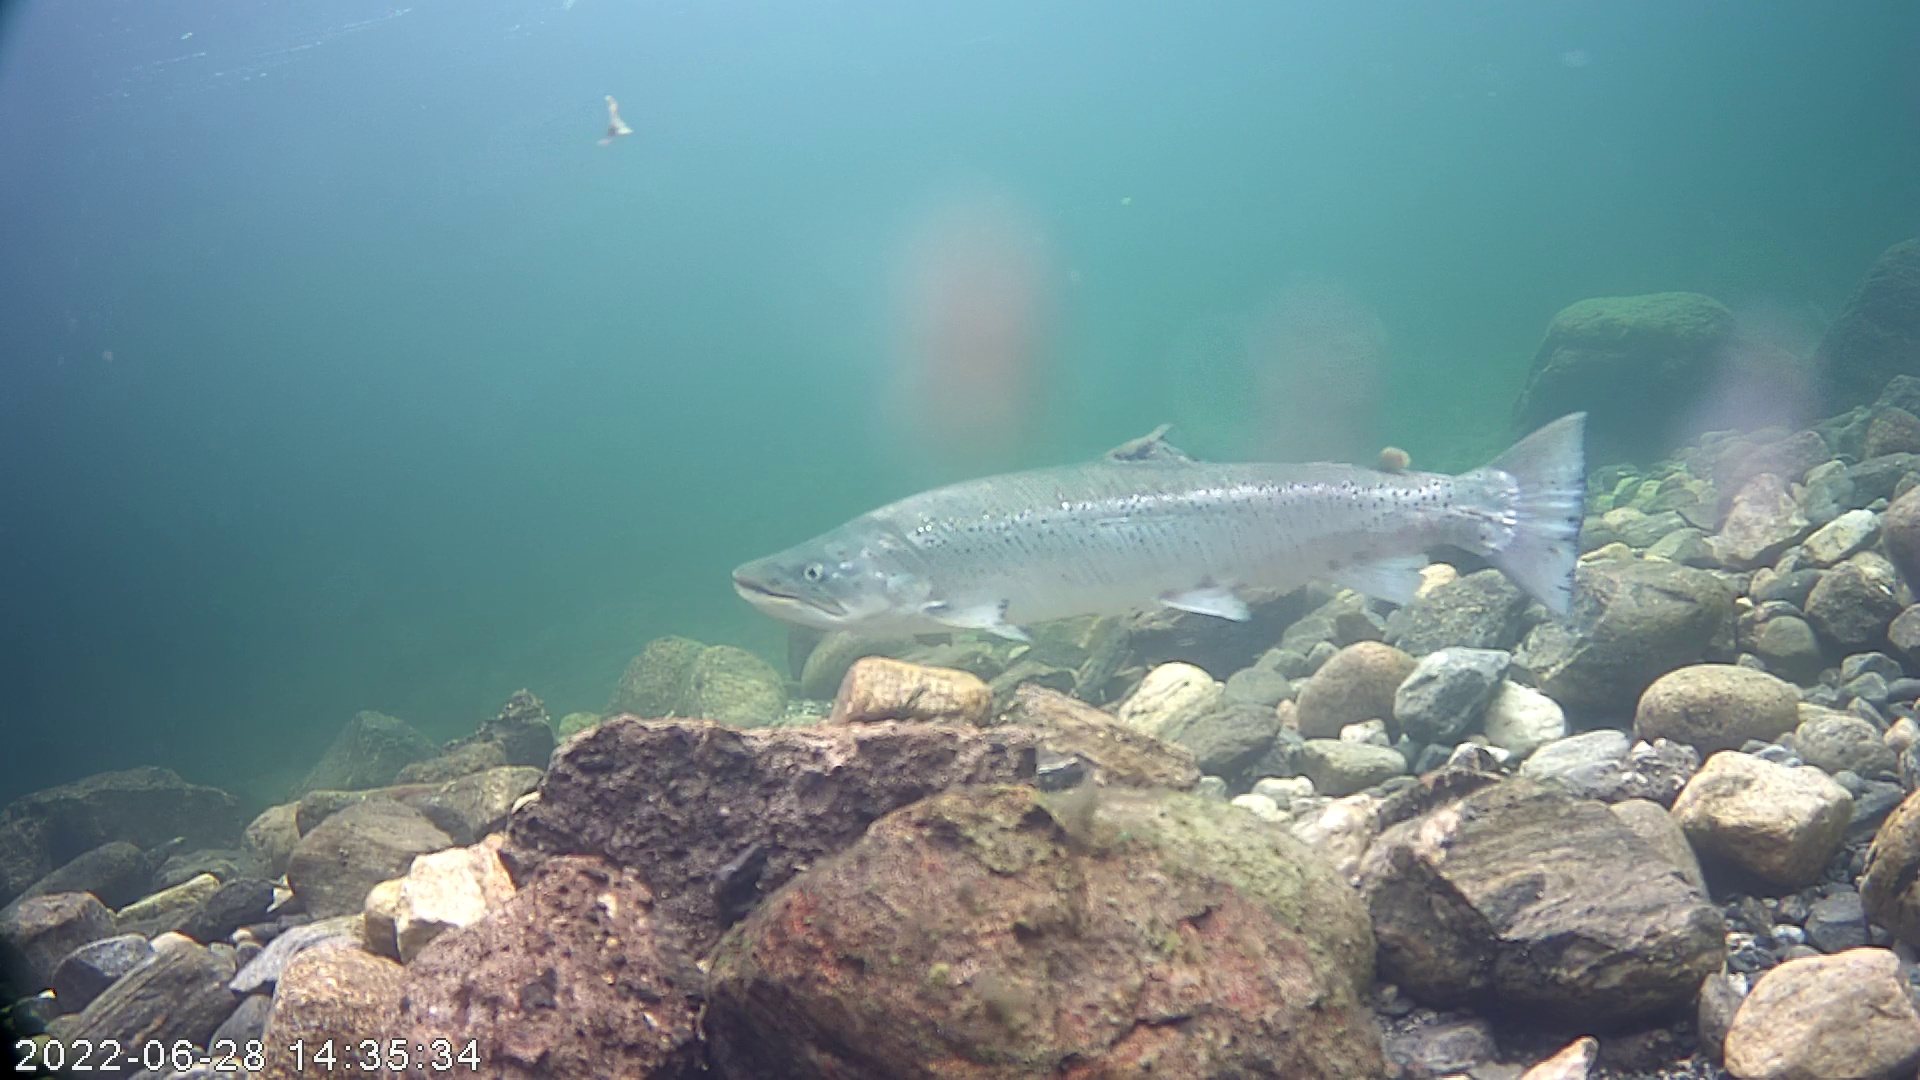salmon: (705, 301, 1634, 702)
